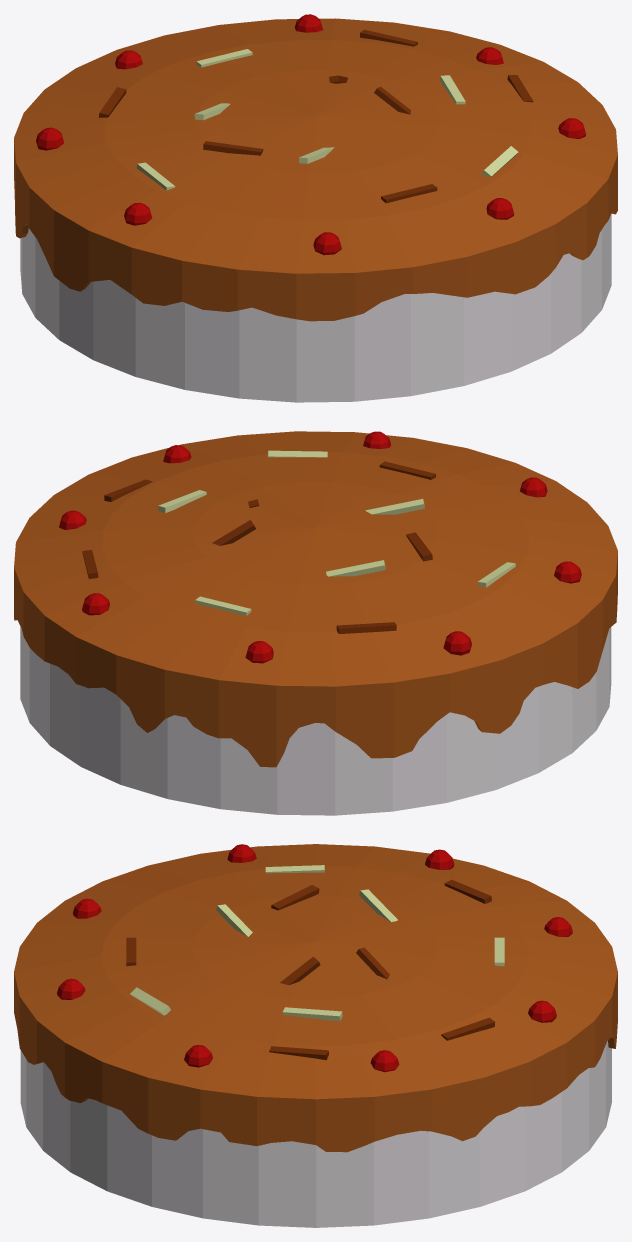
The model's file is baked_Cake.fbx.
3 views of the same model, one above another, from view 1: azimuth 30°, elevation 25°; view 2: azimuth 150°, elevation 25°; view 3: azimuth 270°, elevation 25° (orthographic).
Visible parts, largest first — view 1: Cylinder, Cube; view 2: Cylinder, Cube; view 3: Cylinder, Cube.
Part boxes in pixels (box(x1,y1,x2,y2)): Cylinder: box(14, 14, 617, 402); Cube: box(99, 29, 533, 203); Cylinder: box(14, 431, 617, 815); Cube: box(82, 450, 515, 633); Cylinder: box(14, 844, 617, 1227); Cube: box(126, 865, 504, 1060).
Bounding box in the file's own units: 204 × 65.51 × 204.
